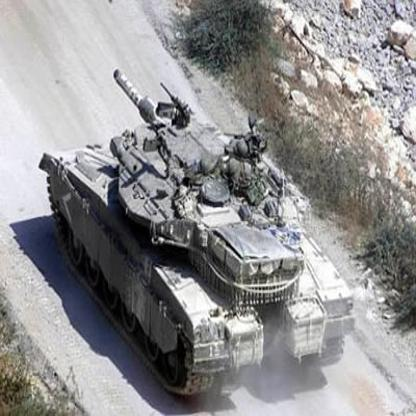Tank: (33, 62, 372, 402)
